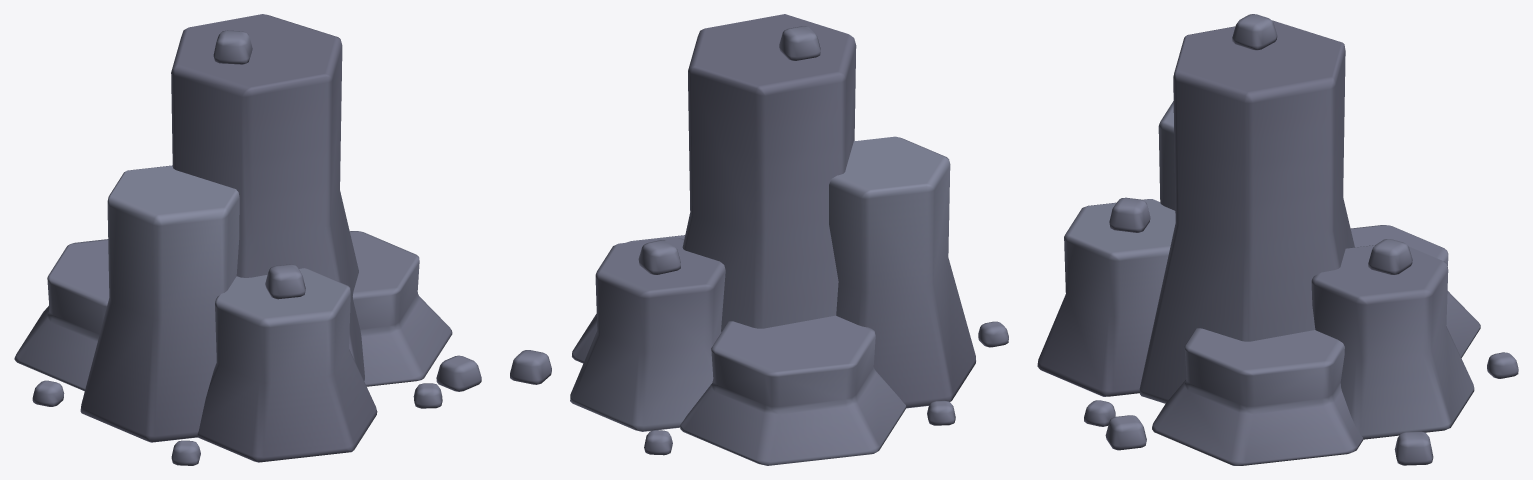
File: rocks-b.glb
The picture shows the model from 3 angles, left to right: view 1: azimuth 30°, elevation 25°; view 2: azimuth 150°, elevation 25°; view 3: azimuth 270°, elevation 25°; orthographic projection. The views are drawn at different scales.
Visible parts, largest first — view 1: rocks-b; view 2: rocks-b; view 3: rocks-b.
Boxes of the visible parts, x1=… form: rocks-b: x1=14, y1=14, x2=481, y2=465; rocks-b: x1=510, y1=14, x2=1008, y2=465; rocks-b: x1=1037, y1=14, x2=1518, y2=465.
Size of the model in its own units: 4.35 by 3.65 by 4.62.
Materials: 1 (1 with a texture image).
